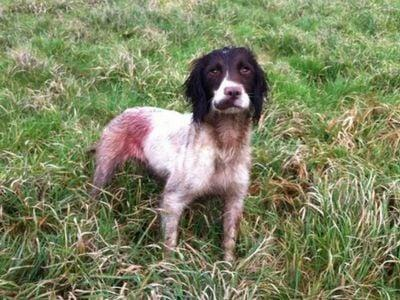infection: (107, 119, 148, 160)
